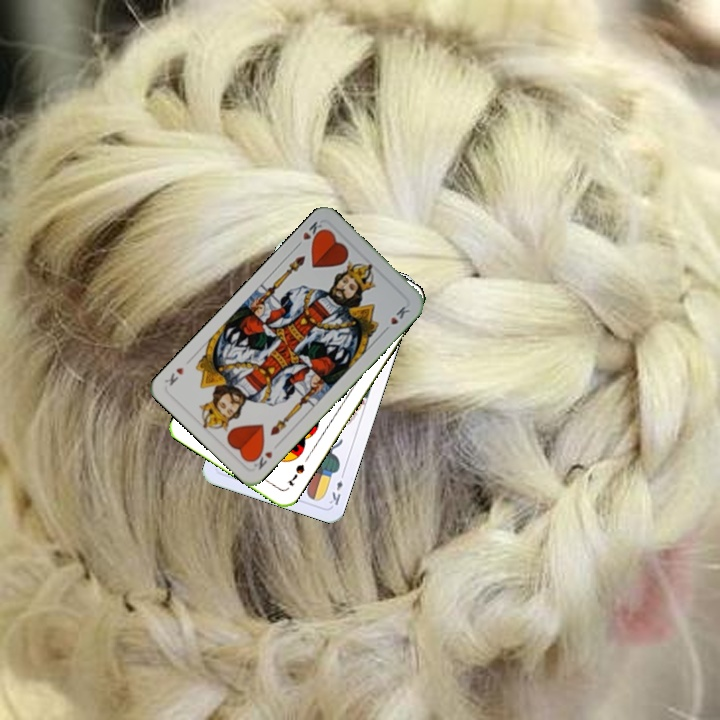EK: (325, 468, 347, 508)
HK: (299, 217, 328, 246), (247, 444, 275, 472)
S7: (282, 460, 307, 488)
